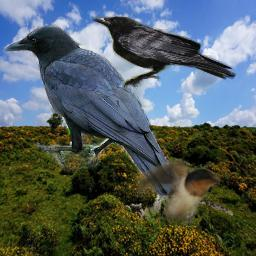Crow: (3, 24, 186, 202), (92, 15, 237, 89)
Swallow: (135, 158, 220, 226)
